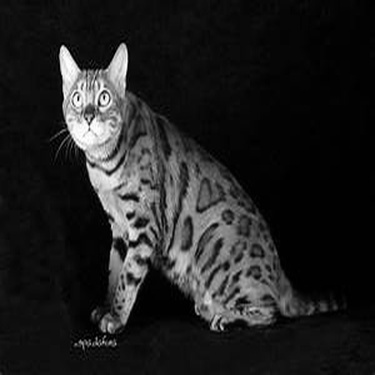cat: (55, 41, 352, 333)
